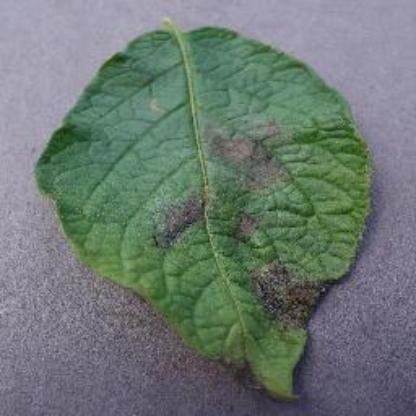Late-Blight: (30, 17, 386, 407)
